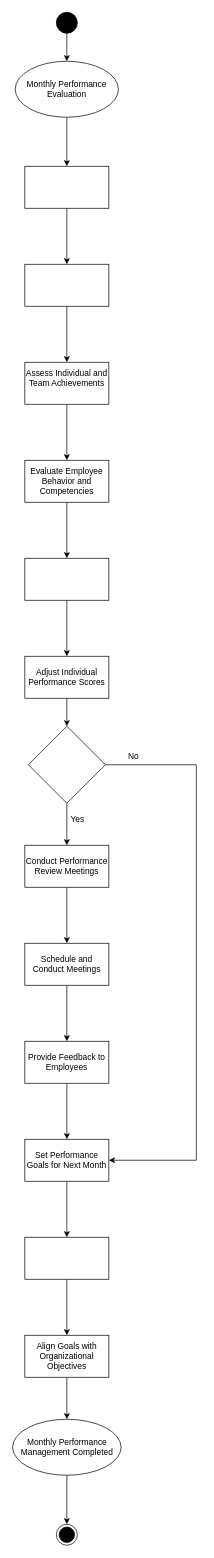
Image size: 214x1558. Some labels were removed from this diagram. Here are the shapes that lost their labels. From the top down, the box of each, then its label:
(24, 166, 109, 208): Gather Employee Performance Data
(24, 264, 109, 306): Collect Employee Metrics
(24, 558, 109, 600): Update Performance Records
(28, 726, 105, 803): Score below set threshold ?
(24, 1237, 109, 1279): Collaborate with Employees to Set Goals
